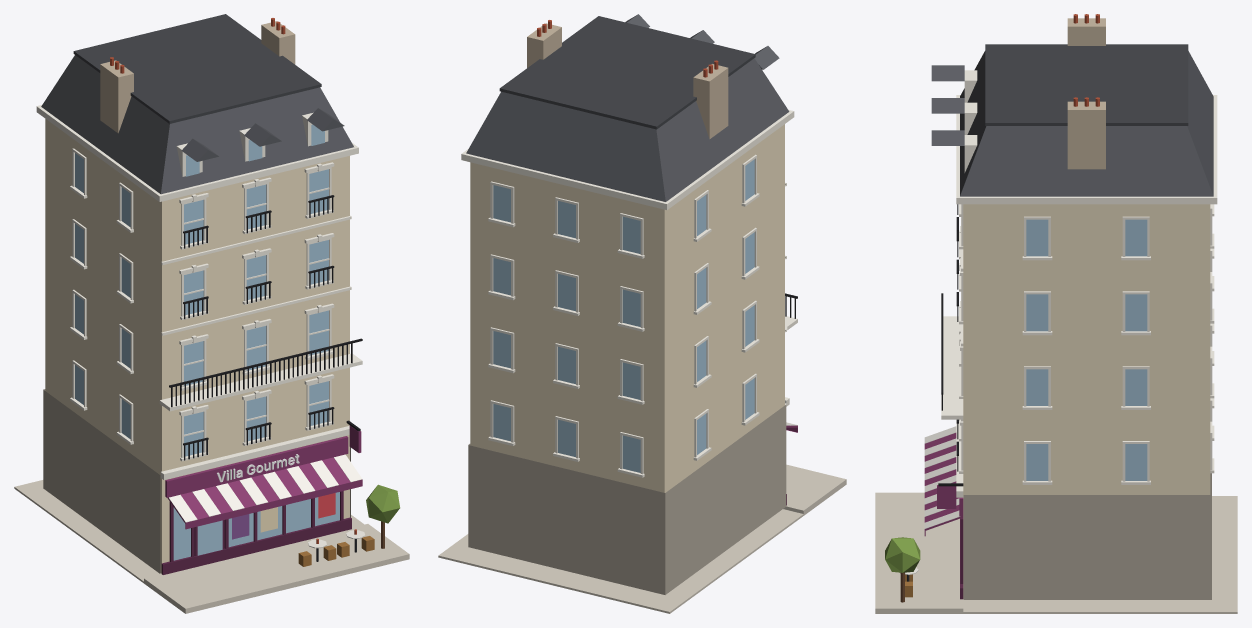
File: Dukkan_villa_gourmet_Hafif.fbx
The picture shows the model from 3 angles, left to right: view 1: azimuth 30°, elevation 25°; view 2: azimuth 150°, elevation 25°; view 3: azimuth 270°, elevation 25°; orthographic projection. The views are drawn at different scales.
Parts seen in each view (by area): view 1: Dukkan_villa_gourmet_Hafif; view 2: Dukkan_villa_gourmet_Hafif; view 3: Dukkan_villa_gourmet_Hafif.
Part boxes in pixels (box(x1,y1,x2,y2)): Dukkan_villa_gourmet_Hafif: box(14, 14, 409, 613); Dukkan_villa_gourmet_Hafif: box(438, 14, 846, 613); Dukkan_villa_gourmet_Hafif: box(875, 14, 1237, 613).
Size of the model in its own units: 10 by 20.02 by 13.18.
